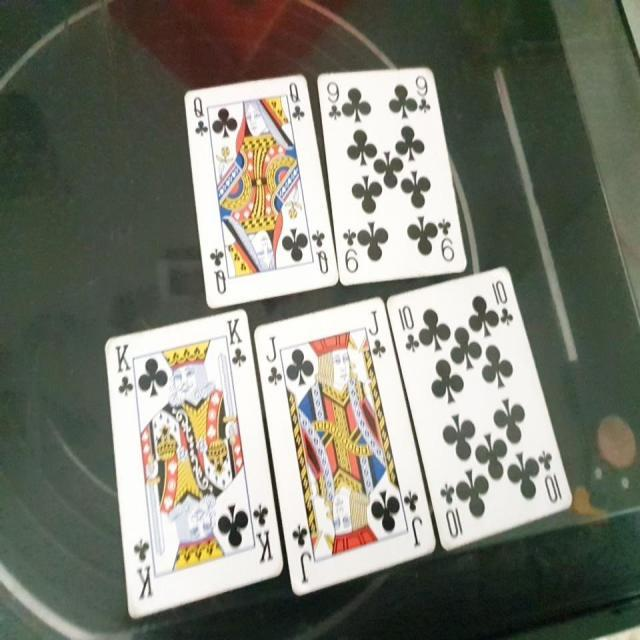10 of clubs: (386, 262, 572, 553)
9 of clubs: (316, 58, 468, 284)
jack of clubs: (252, 295, 438, 598)
king of clubs: (104, 308, 286, 622)
queen of clubs: (182, 72, 338, 307)
